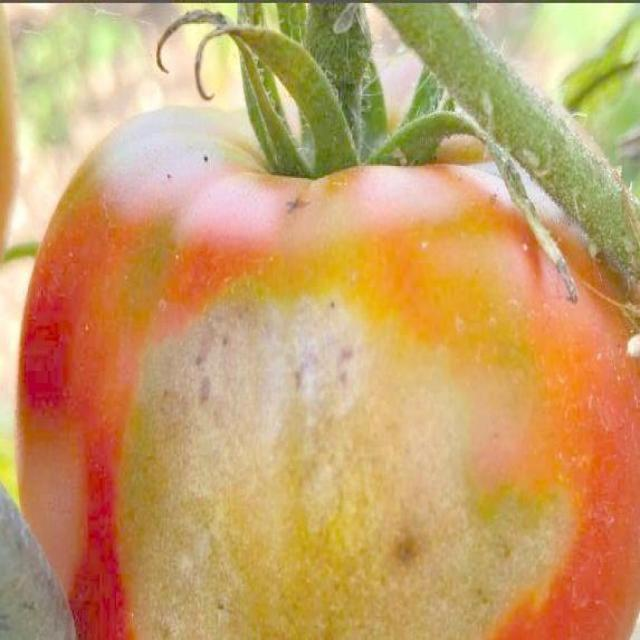Sunscald Fruit: (79, 158, 375, 426)
